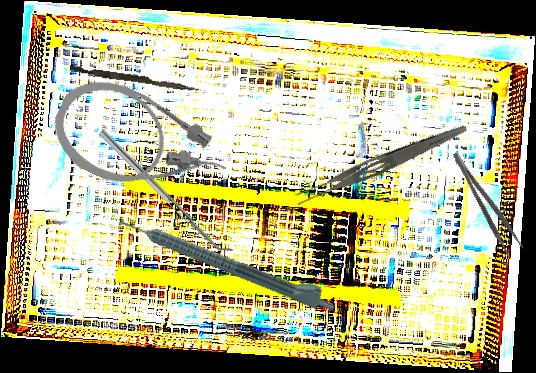Cannula: (40, 65, 240, 224)
Dressing Forceps: (291, 116, 470, 210), (449, 146, 526, 259)
Handpiece: (116, 205, 341, 316)
Pusher: (69, 64, 200, 93)
Spatula Surgical: (98, 124, 234, 260)
